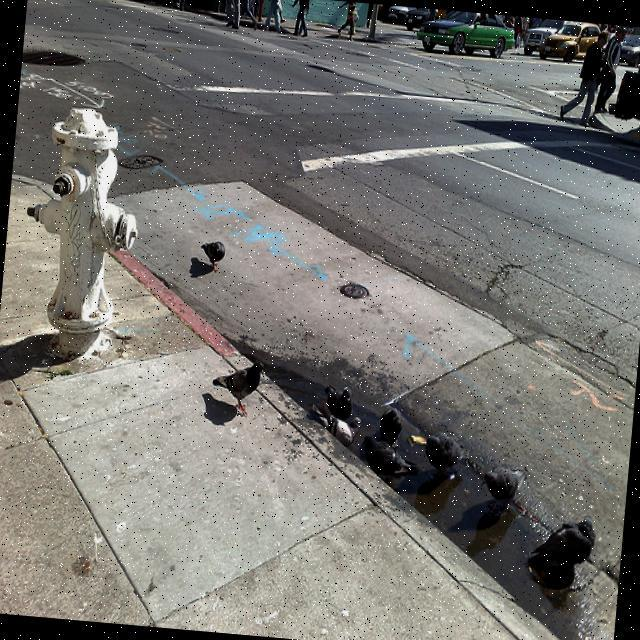fire_hydrant: (15, 100, 150, 359)
